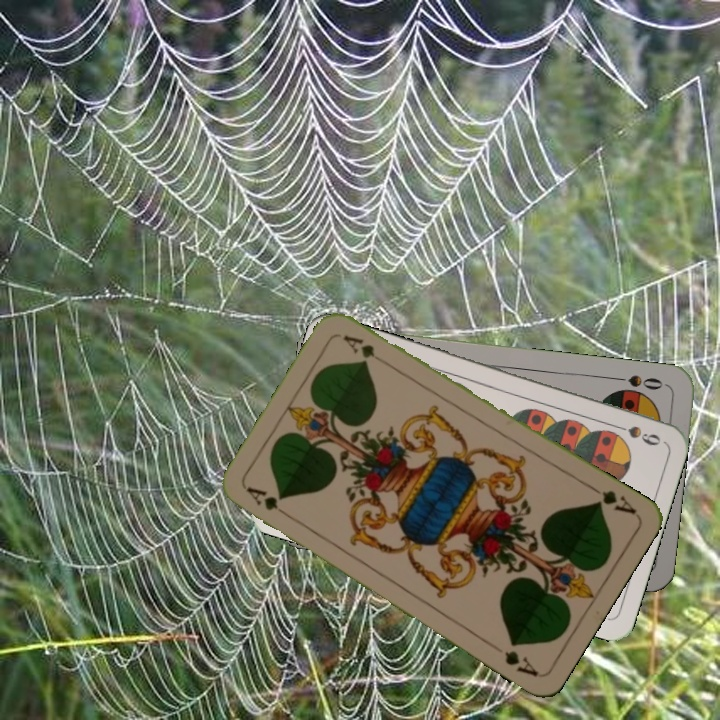GA: (242, 483, 295, 522), (585, 481, 639, 517)
S9: (607, 419, 663, 449)
SO: (610, 371, 665, 393)
